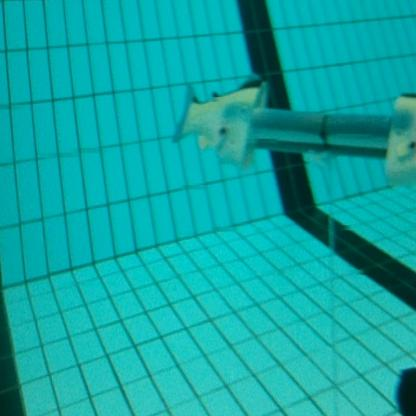tail: (171, 71, 271, 171)
